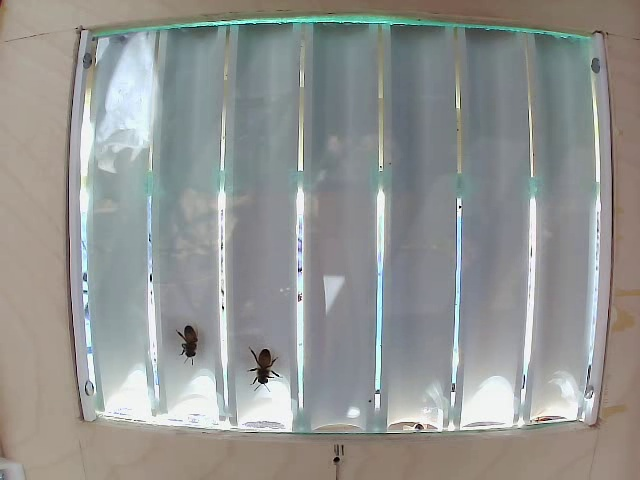bee: (231, 337, 295, 395), (168, 319, 201, 373)
